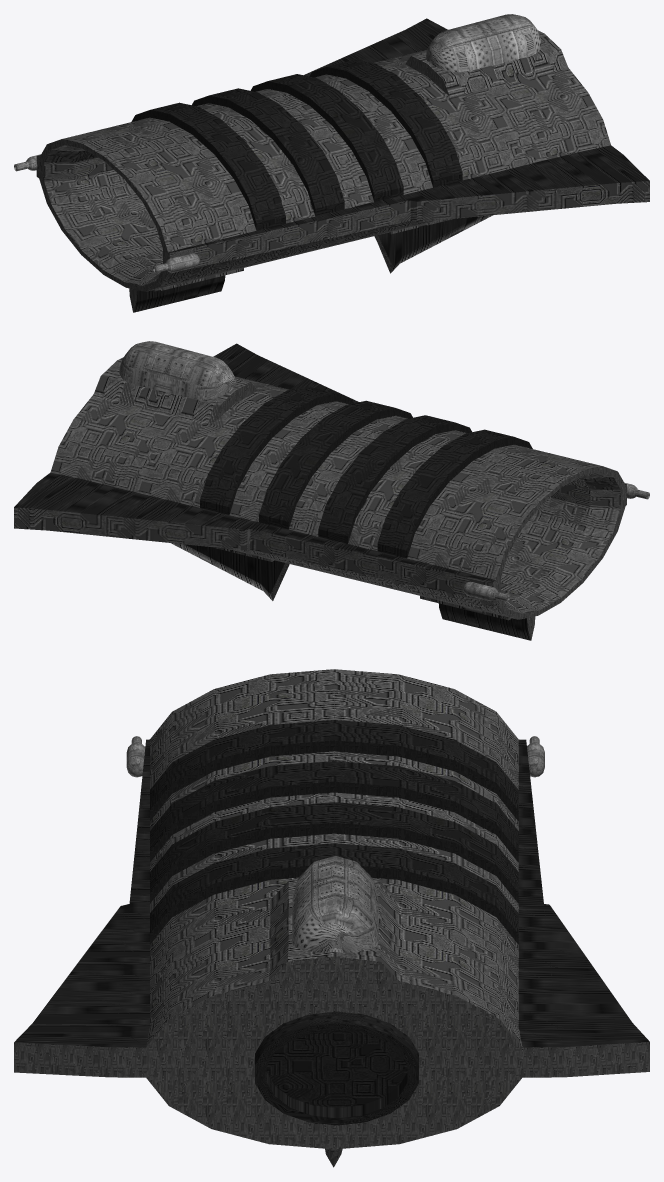
Rendered from KaymanShip.FBX.
3 renders of one model, top to bottom at view 1: azimuth 30°, elevation 25°; view 2: azimuth 150°, elevation 25°; view 3: azimuth 270°, elevation 25°, orthographic. The views are drawn at different scales.
Parts seen in each view (by area): view 1: Cylinder001, Capsule001, Capsule003; view 2: Cylinder001, Capsule001, Capsule002; view 3: Cylinder001, Cylinder002, Capsule001.
Part boxes in pixels (x1,y1,x2,y2): Cylinder001: (36,18,649,312); Capsule001: (425,14,541,72); Capsule003: (153,253,199,272); Cylinder001: (14,343,626,640); Capsule001: (119,341,236,399); Capsule002: (463,582,509,601); Cylinder001: (14,669,649,1167); Cylinder002: (255,1011,418,1125); Capsule001: (292,856,378,952).
Size of the model in its own units: 53.74 by 24.45 by 43.37.
3 materials, 3 textured.
